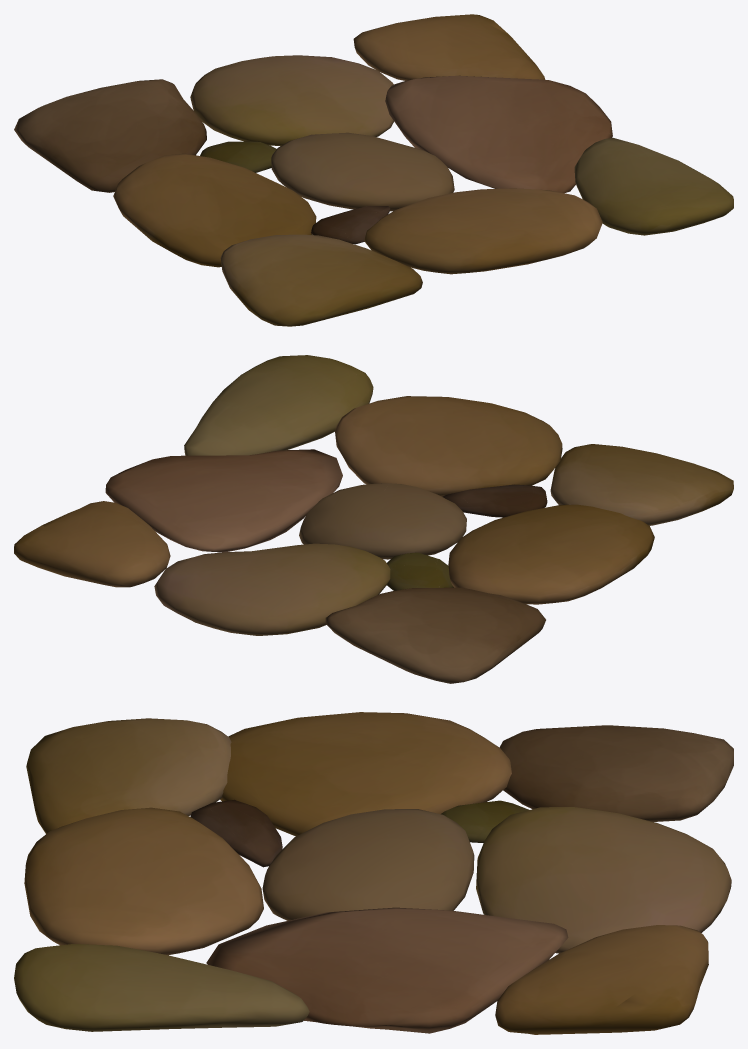
The model's file is floor_rockpile.fbx.
3 renders of one model, top to bottom at view 1: azimuth 30°, elevation 25°; view 2: azimuth 150°, elevation 25°; view 3: azimuth 270°, elevation 25°, orthographic. The views are drawn at different scales.
Parts seen in each view (by area): view 1: Floor_Rockpile; view 2: Floor_Rockpile; view 3: Floor_Rockpile.
Part boxes in pixels (left/top/right/bottom): Floor_Rockpile: left=14, top=14, right=733, bottom=326; Floor_Rockpile: left=14, top=355, right=733, bottom=683; Floor_Rockpile: left=14, top=712, right=733, bottom=1034.
Size of the model in its own units: 206 by 21.82 by 210.
Materials: 1 (1 with a texture image).
